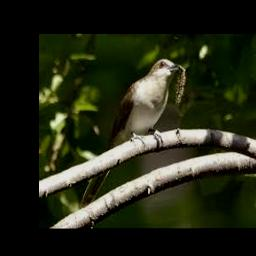Cuckoo: (81, 59, 182, 210)
